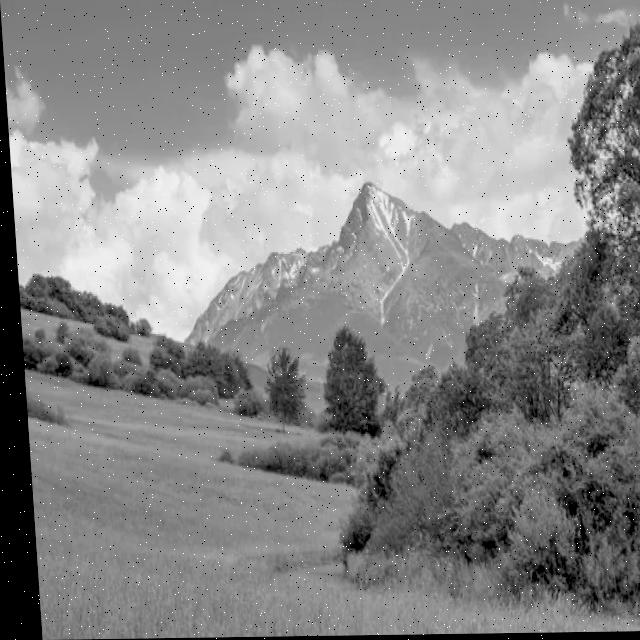Krivan: (301, 121, 435, 250)
